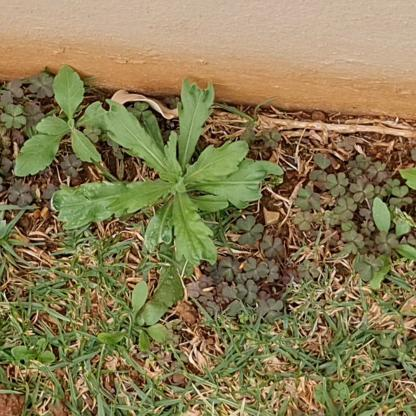Weeds: (52, 78, 285, 269), (13, 63, 130, 176), (98, 280, 170, 355), (358, 195, 415, 288), (11, 338, 57, 371)
